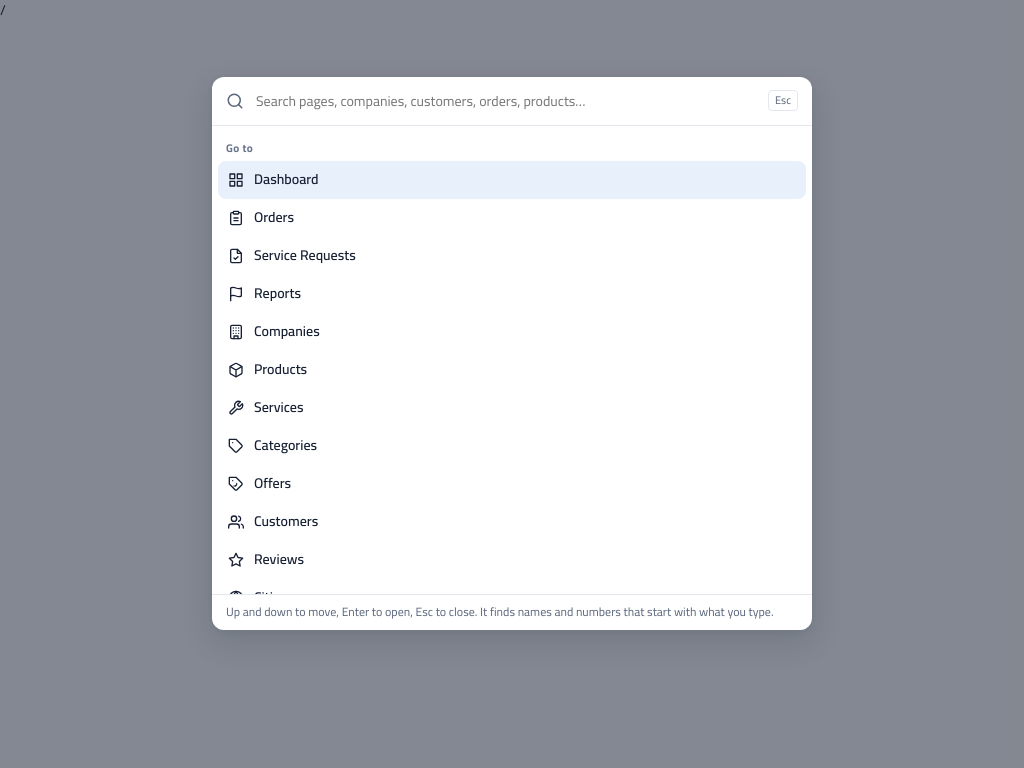
it: searching the records › lists what is found under its kind, after the pages
Type "nile" into the dropdown.
click(506, 101); type("nile")  # box x1=254 y1=77 x2=758 y2=125
Wait 300 ms
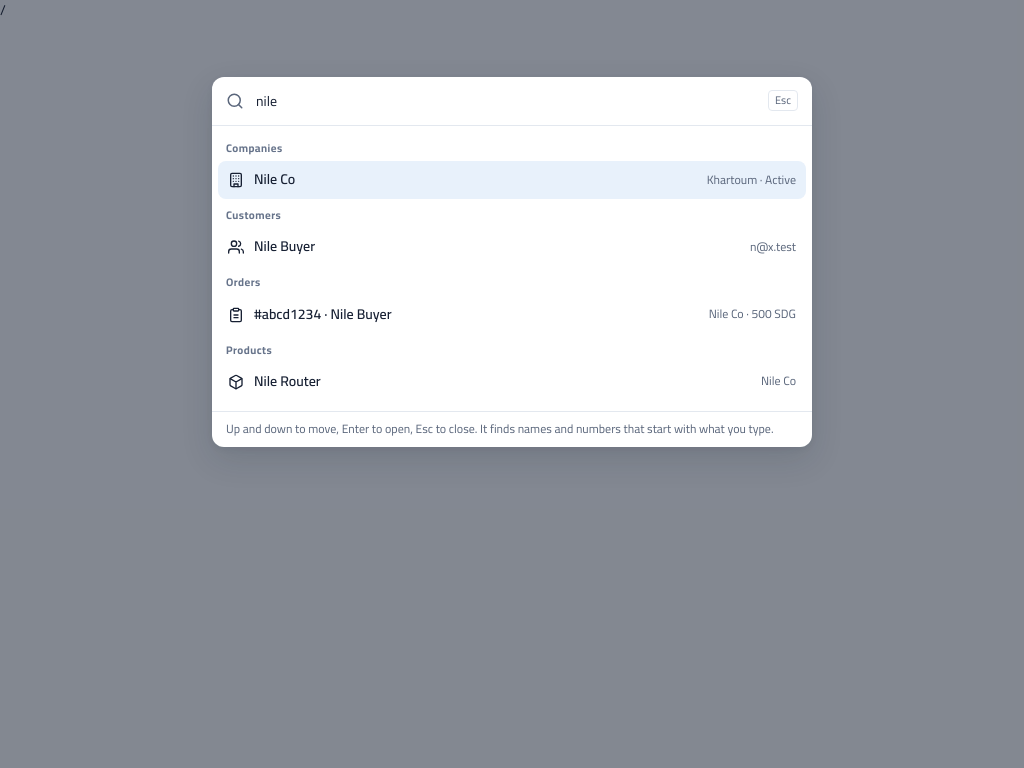
Check: the option "Nile Co Khartoum · Active" is shown, box x1=218 y1=161 x2=806 y2=199
Check: the option "Nile Buyer n@x.test" is shown, box x1=218 y1=228 x2=806 y2=266
Check: the option "#abcd1234 · Nile Buyer Nile Co · 500 SDG" is shown, box x1=218 y1=296 x2=806 y2=334
